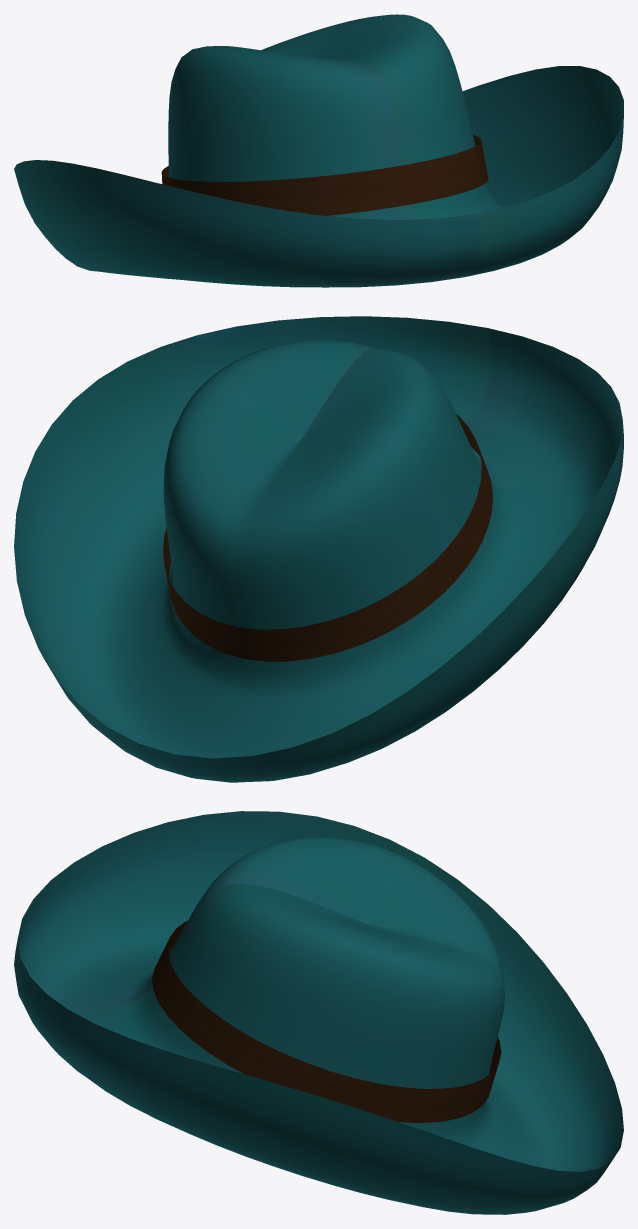
The model's file is hat.ghost-white.glb.
The picture shows the model from 3 angles, top to bottom: view 1: azimuth 30°, elevation 25°; view 2: azimuth 150°, elevation 25°; view 3: azimuth 270°, elevation 25°; orthographic projection. The views are drawn at different scales.
Visible parts, largest first — view 1: Head; view 2: Head; view 3: Head.
Part boxes in pixels (box(x1,y1,x2,y2)): Head: box(14, 14, 623, 287); Head: box(14, 316, 623, 782); Head: box(14, 811, 623, 1214).
Bounding box in the file's own units: 0.3863 × 0.2168 × 0.3984.
Materials: 1 (1 with a texture image).
